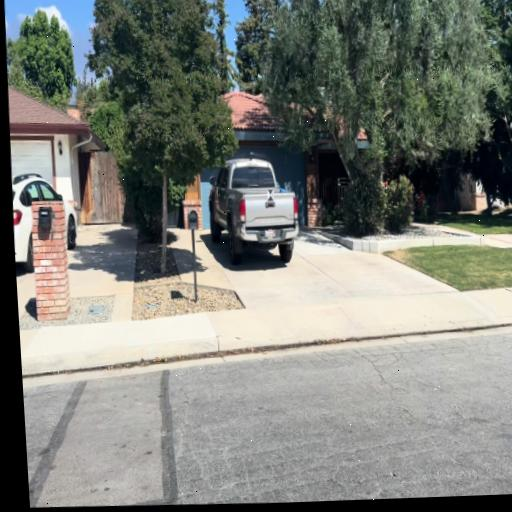target1: (267, 189, 275, 202)
